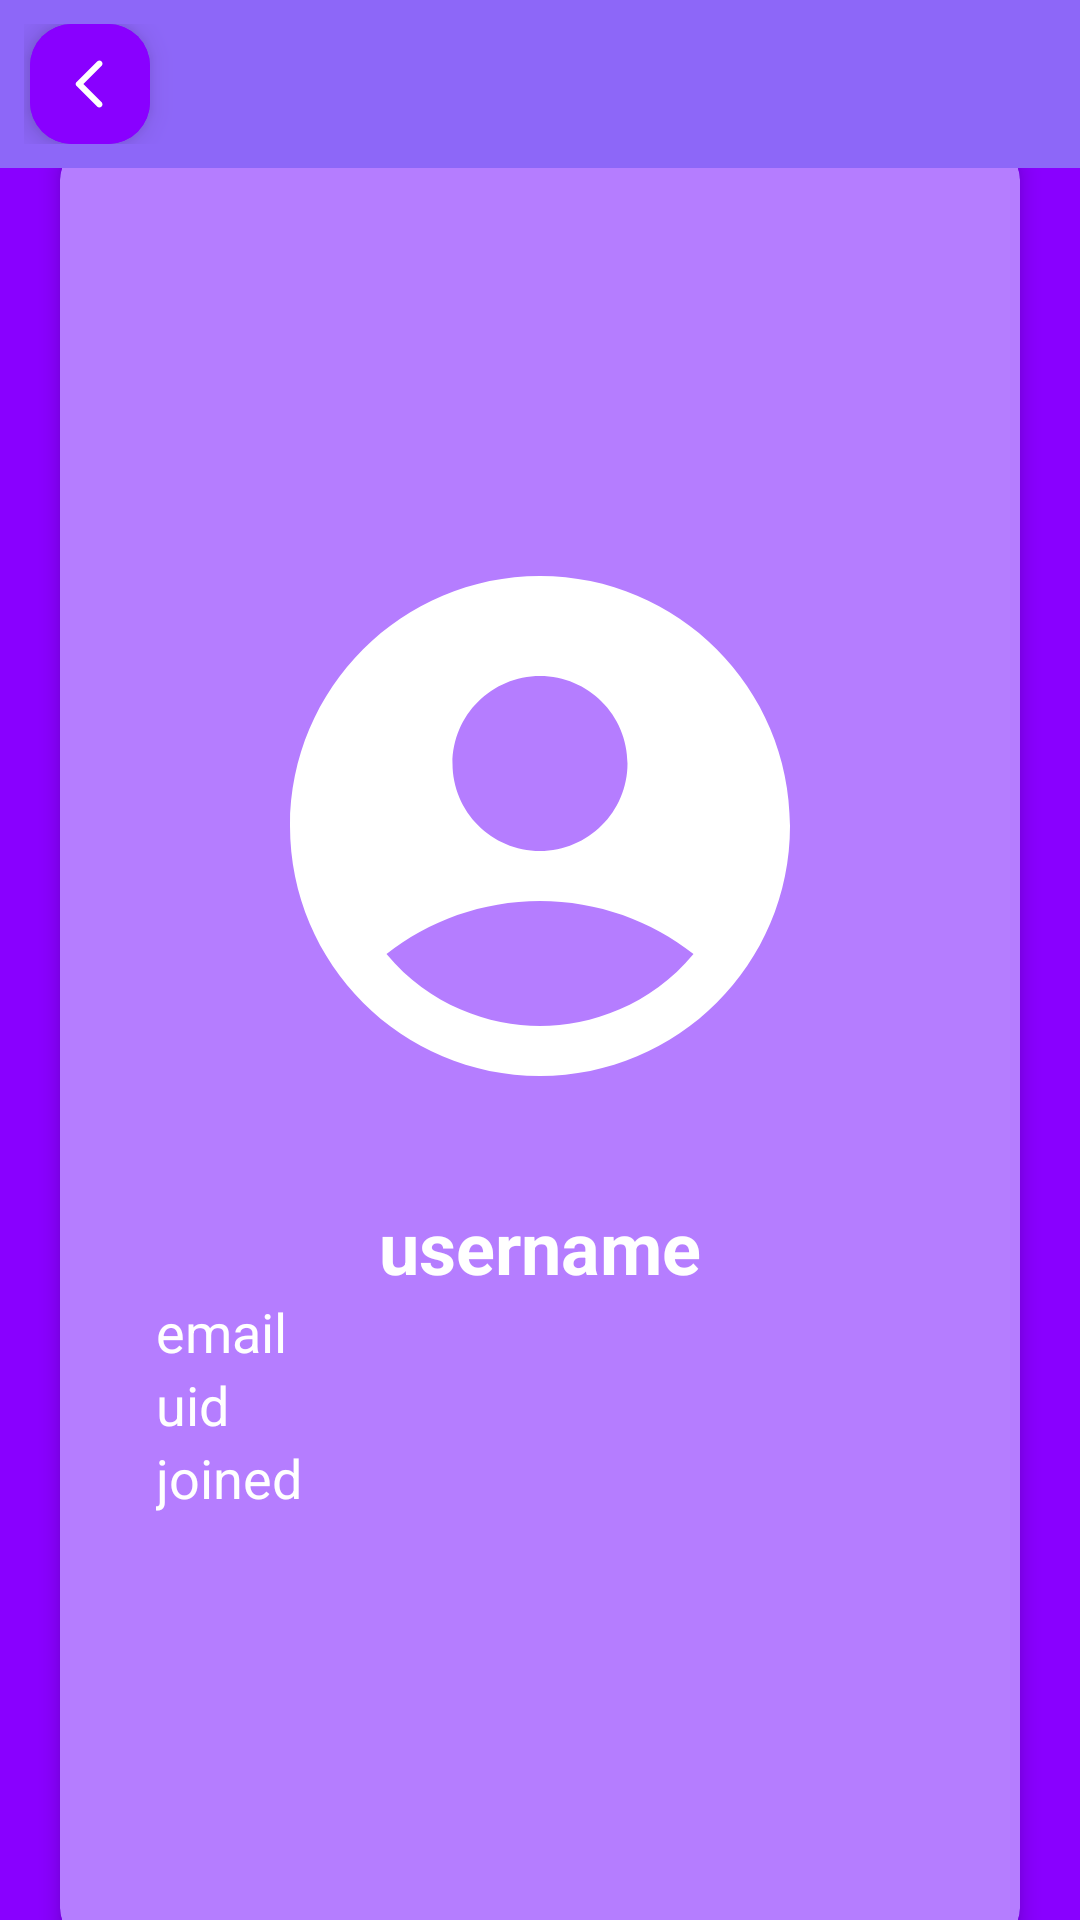

Named icons in this screenshot (1080w x 1920h) and their centers, (x=x, y=y):
arrow back: (x=90, y=84)
